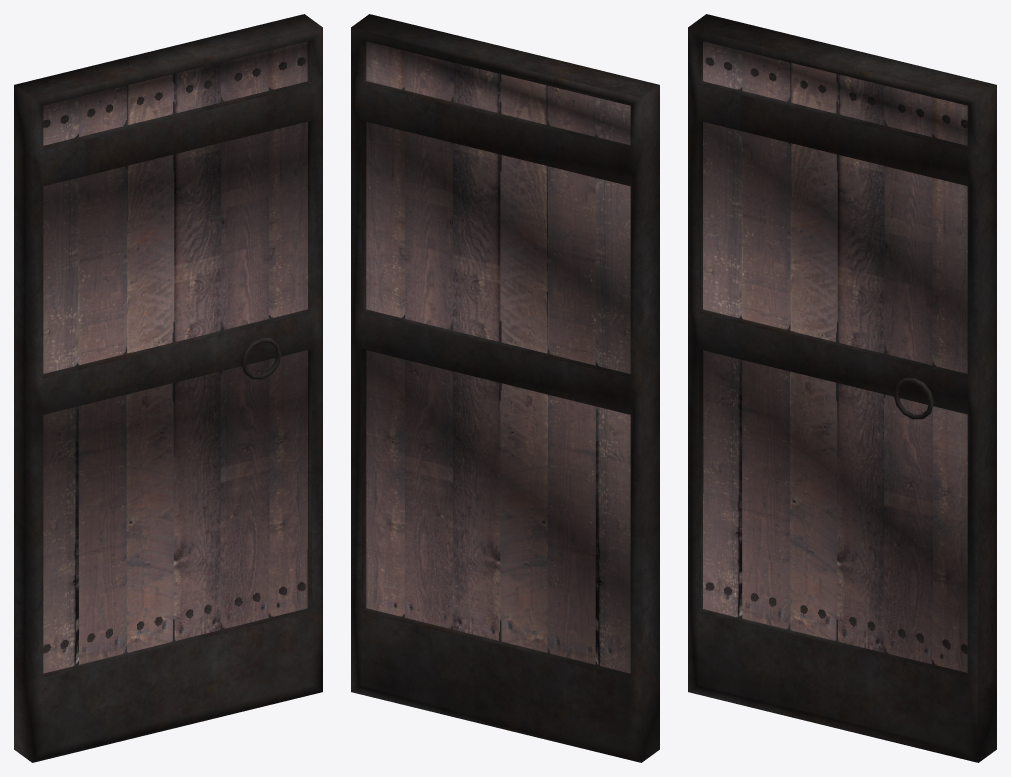
Rendered from puerta_1.fbx.
3 views of the same model, side by side, from view 1: azimuth 30°, elevation 25°; view 2: azimuth 150°, elevation 25°; view 3: azimuth 330°, elevation 25° (orthographic).
Parts seen in each view (by area): view 1: puerta_1; view 2: puerta_1; view 3: puerta_1.
Part boxes in pixels (x1,y1,x2,y2): puerta_1: (14,14,322,762); puerta_1: (351,14,659,762); puerta_1: (688,14,996,762).
Size of the model in its own units: 154 by 336 by 19.5.
